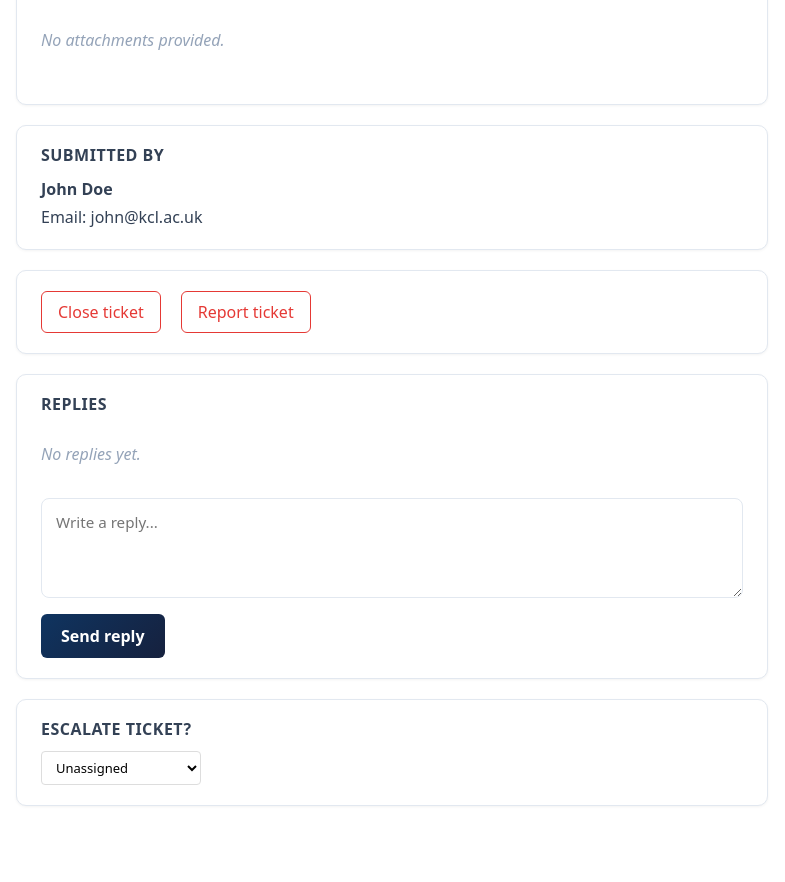
Test: TicketPage › submits reply and refreshes ticket data
(page scrolled)
Type "Hello" into the text box with placeholder "Write a reply...".
click(392, 548); type("Hello")  # box [41,498,743,598]
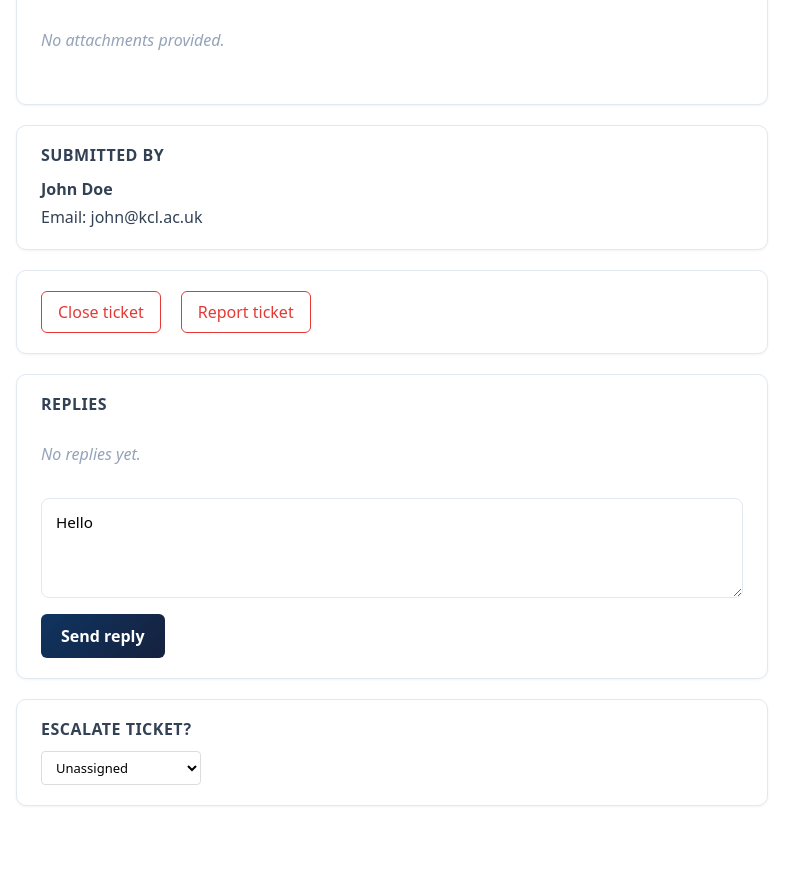
Click the button "Send reply".
click(103, 636)  # box [41,614,165,658]
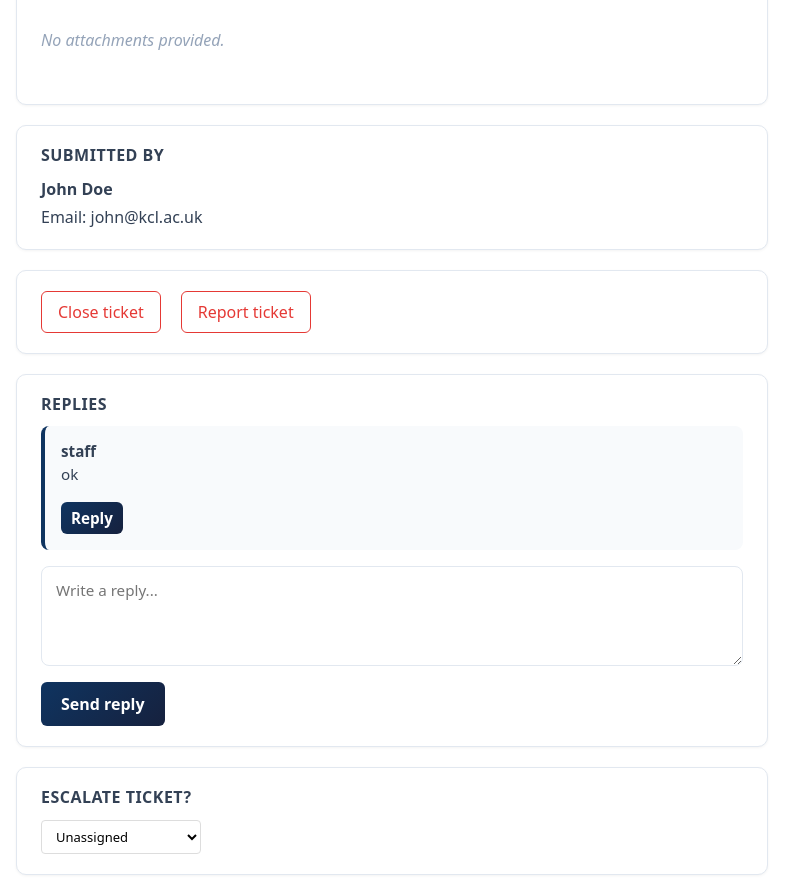
Result: the text "ok" is shown at [61,464,78,484]
